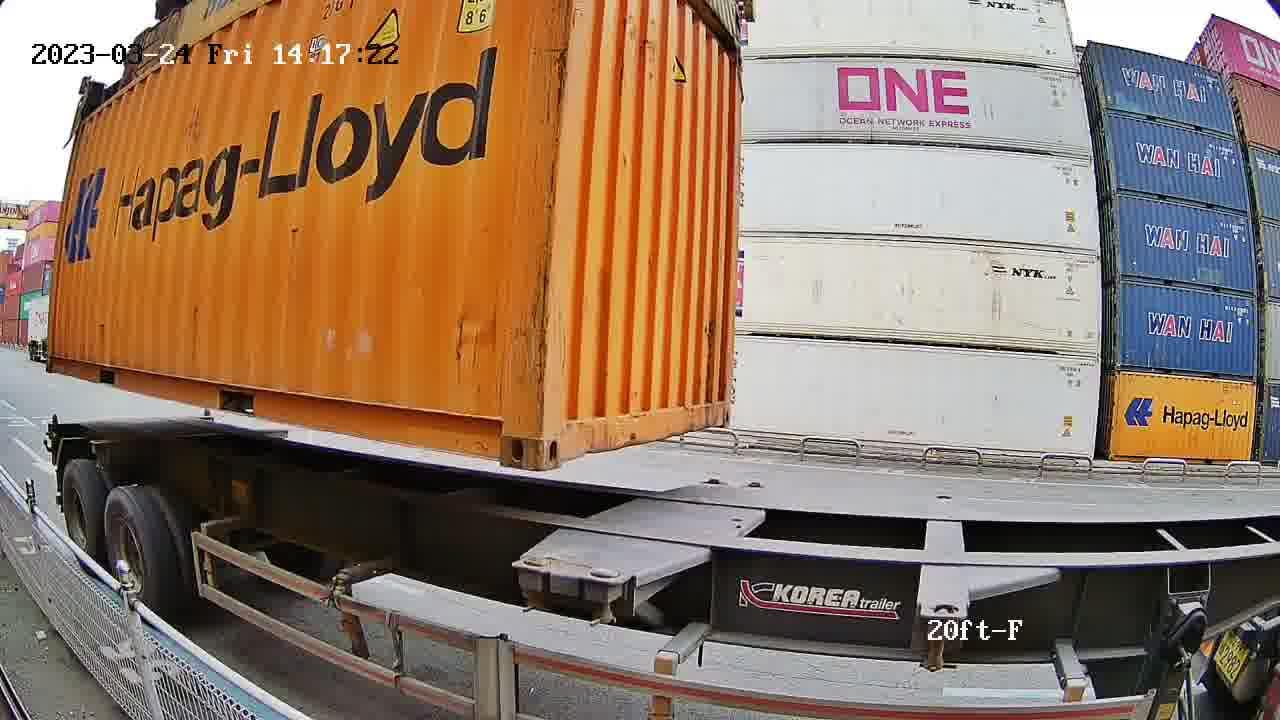Chassis: (518, 480, 726, 573), (587, 483, 765, 582)
Cone: (584, 567, 628, 632), (516, 555, 555, 616)
Hole_L: (540, 404, 588, 471)
Hole_R: (469, 401, 543, 472), (708, 384, 731, 427)
Tire: (104, 490, 154, 614), (63, 462, 100, 568)
